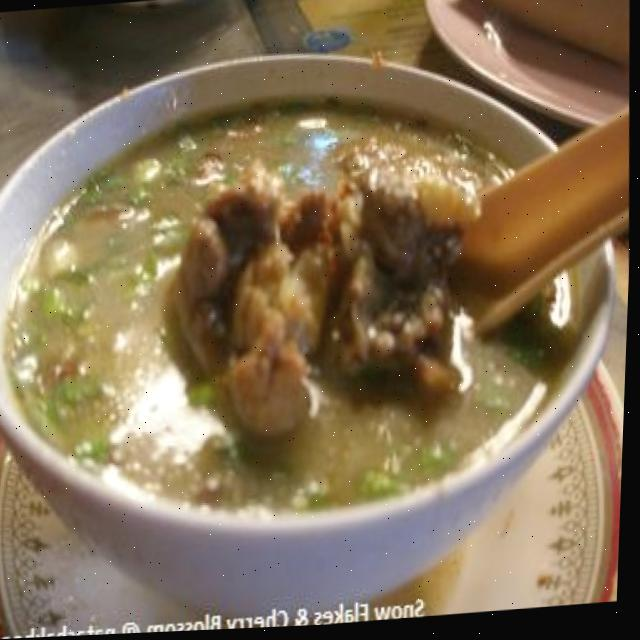汤锅炖物: (0, 4, 612, 581)
